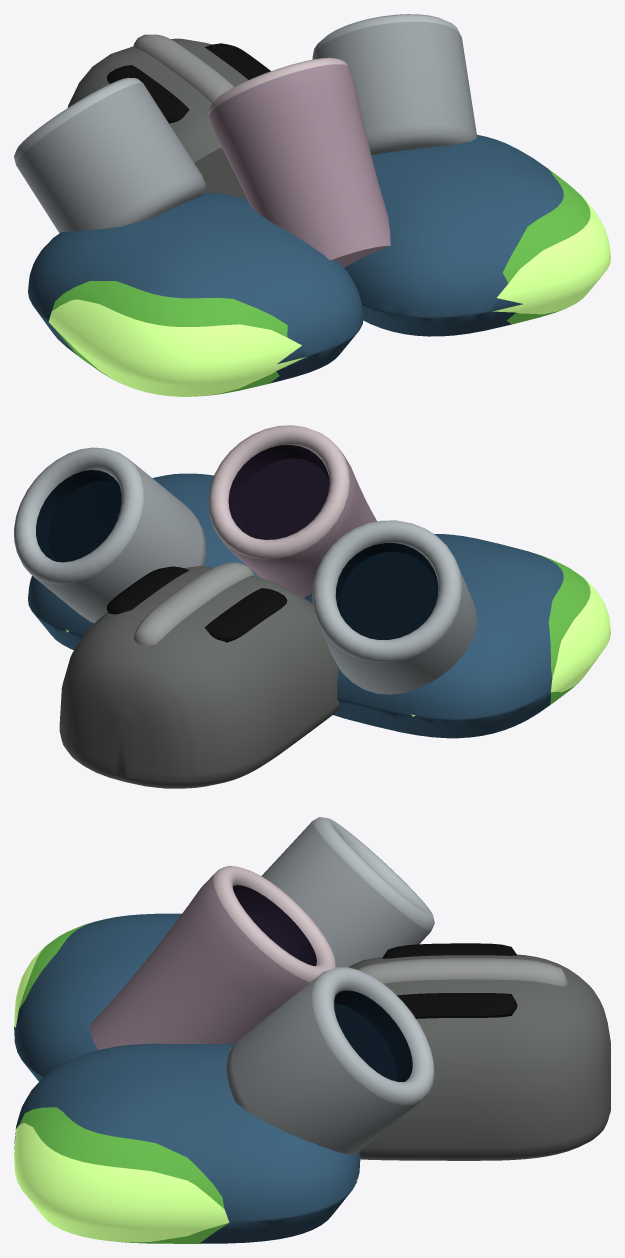
The model's file is pod_turret_193.glb.
3 views of the same model, one above another, from view 1: azimuth 30°, elevation 25°; view 2: azimuth 150°, elevation 25°; view 3: azimuth 270°, elevation 25° (orthographic). The views are drawn at different scales.
Parts seen in each view (by area): view 1: shell, shell_r, nozzle, cup, cup_r, cowl, rib, slot-1, slot1; view 2: cowl, shell, cup, cup_r, nozzle, shell_r, rib, slot-1, slot1; view 3: shell_r, cowl, cup_r, nozzle, shell, cup, rib, slot1, slot-1.
Boxes of the visible parts, <box> form: shell: <box>28,192,363,396</box>; shell_r: <box>344,134,610,336</box>; nozzle: <box>208,57,390,267</box>; cup: <box>14,77,206,233</box>; cup_r: <box>312,14,476,154</box>; cowl: <box>67,38,248,199</box>; rib: <box>133,34,234,103</box>; slot-1: <box>107,65,189,123</box>; slot1: <box>205,43,270,79</box>; cowl: <box>59,565,339,788</box>; shell: <box>304,534,610,738</box>; cup: <box>312,520,476,694</box>; cup_r: <box>14,447,206,622</box>; nozzle: <box>208,425,377,598</box>; shell_r: <box>28,473,260,649</box>; rib: <box>133,562,254,645</box>; slot-1: <box>204,588,287,642</box>; slot1: <box>107,566,189,614</box>; shell_r: <box>14,1043,360,1243</box>; cowl: <box>348,954,610,1160</box>; cup_r: <box>226,967,434,1154</box>; nozzle: <box>90,866,336,1050</box>; shell: <box>14,913,181,1081</box>; cup: <box>261,817,434,967</box>; rib: <box>358,958,568,986</box>; slot1: <box>397,993,517,1018</box>; slot-1: <box>382,943,516,958</box>.
Bounding box in the file's own units: 23.4 × 10.4 × 22.4.
